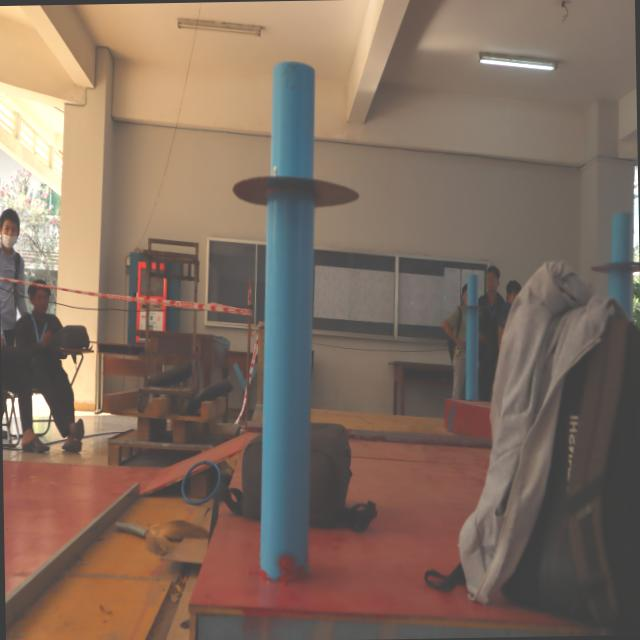pole: (232, 46, 362, 288), (454, 274, 489, 348)
